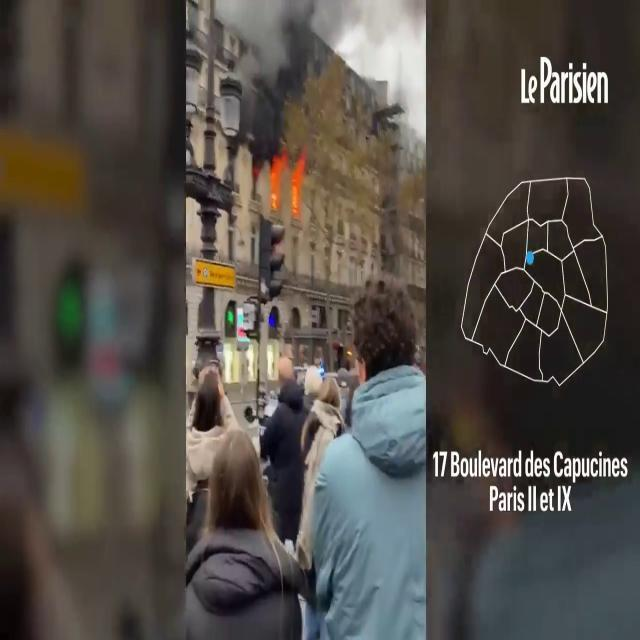Fire: (266, 142, 308, 218)
Smoke: (225, 1, 343, 142)
